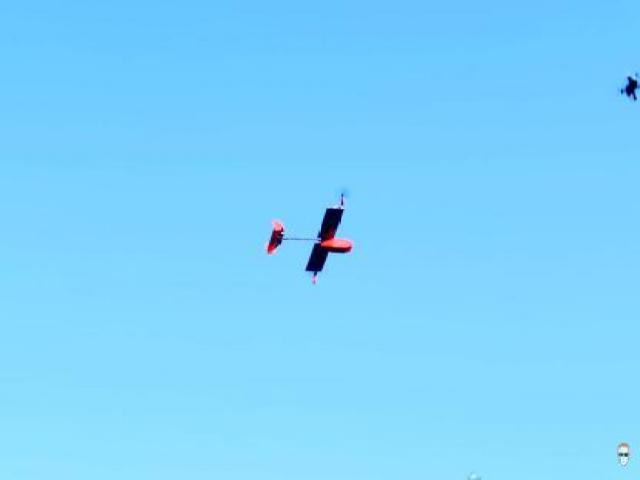uav: (262, 181, 368, 293)
